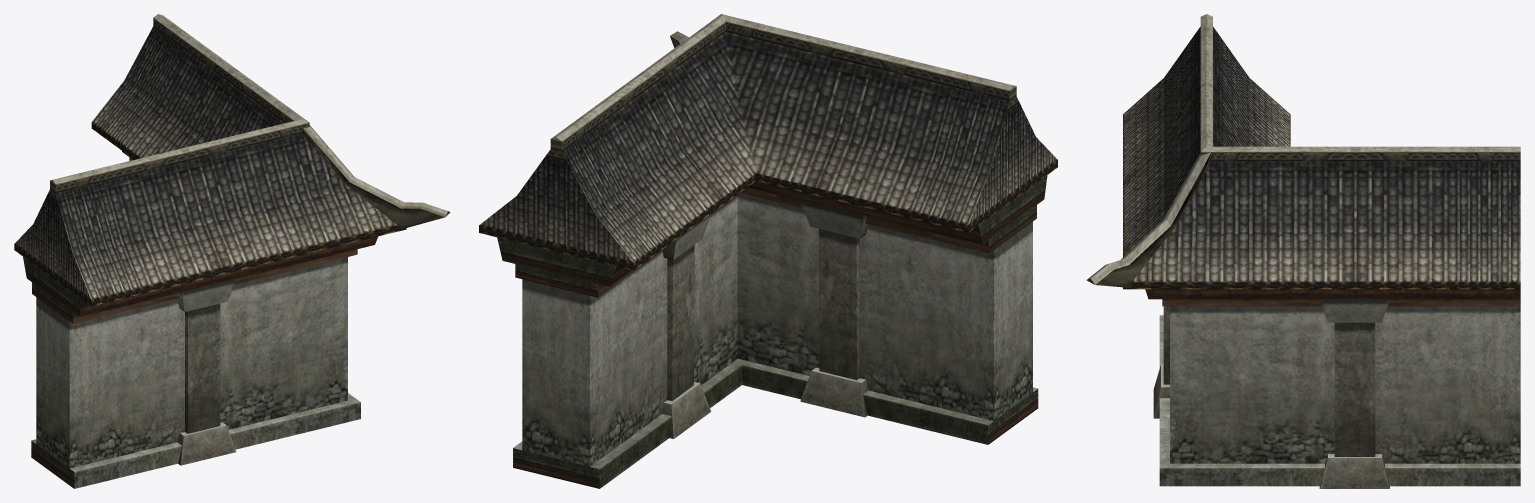
File: b1-038-wall-corner.fbx
The picture shows the model from 3 angles, left to right: view 1: azimuth 30°, elevation 25°; view 2: azimuth 150°, elevation 25°; view 3: azimuth 270°, elevation 25°; orthographic projection. The views are drawn at different scales.
Visible parts, largest first — view 1: b1-038-wall; view 2: b1-038-wall; view 3: b1-038-wall.
Boxes of the visible parts, x1,y1,x2,y2 form: b1-038-wall: [14, 14, 450, 488]; b1-038-wall: [479, 14, 1057, 488]; b1-038-wall: [1086, 14, 1520, 488].
Bounding box in the file's own units: 5.56 × 4.5 × 5.54.
